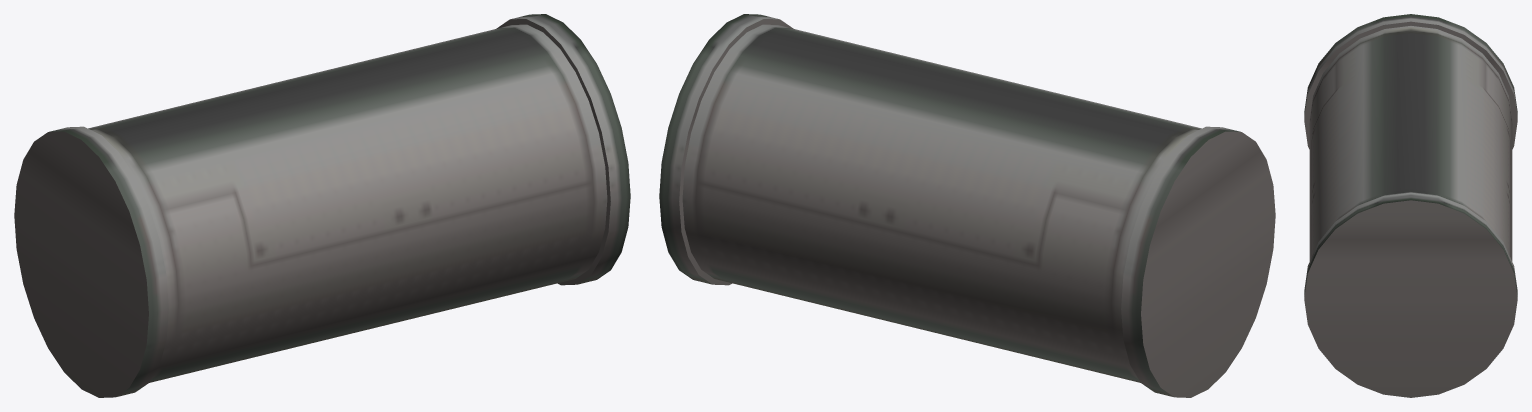
The model's file is Building_AncientStorageCylinder.obj.
3 renders of one model, left to right at view 1: azimuth 30°, elevation 25°; view 2: azimuth 150°, elevation 25°; view 3: azimuth 270°, elevation 25°, orthographic. The views are drawn at different scales.
Parts seen in each view (by area): view 1: Body; view 2: Body; view 3: Body.
Boxes of the visible parts, x1=… form: Body: x1=14, y1=14, x2=630, y2=397; Body: x1=659, y1=14, x2=1275, y2=397; Body: x1=1304, y1=14, x2=1517, y2=397.
Bounding box in the file's own units: 1.94 × 0.96 × 0.94.
1 material, 1 textured.
